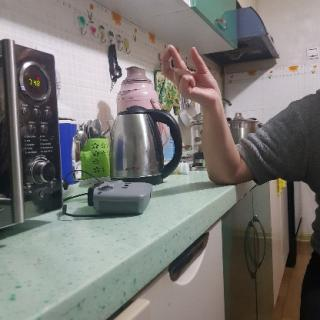DHELL: (157, 38, 226, 109)
